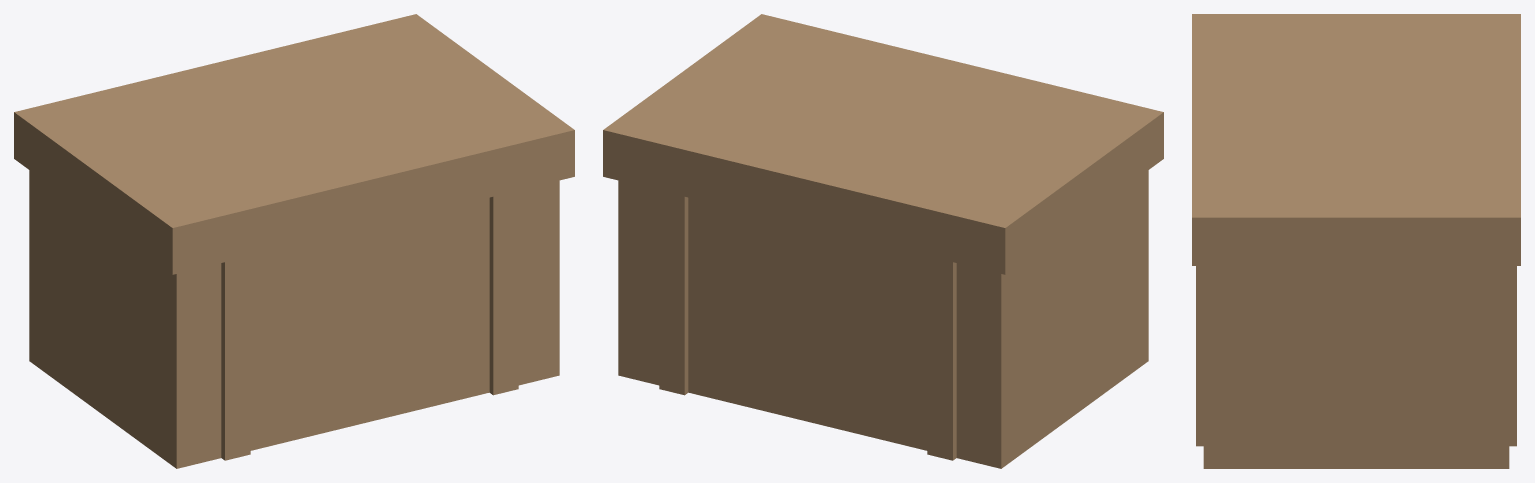
File: CoffreTest.glb
The picture shows the model from 3 angles, left to right: view 1: azimuth 30°, elevation 25°; view 2: azimuth 150°, elevation 25°; view 3: azimuth 270°, elevation 25°; orthographic projection. The views are drawn at different scales.
Visible parts, largest first — view 1: CoffreTest; view 2: CoffreTest; view 3: CoffreTest.
Part boxes in pixels (left/top/right/bottom): CoffreTest: left=14, top=14, right=574, bottom=468; CoffreTest: left=603, top=14, right=1163, bottom=468; CoffreTest: left=1192, top=14, right=1520, bottom=468.
Bounding box in the file's own units: 0.3528 × 0.2072 × 0.2408.
